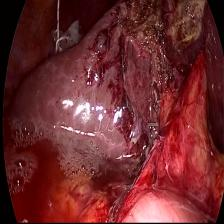Specimen Bag: (50, 15, 85, 52)
